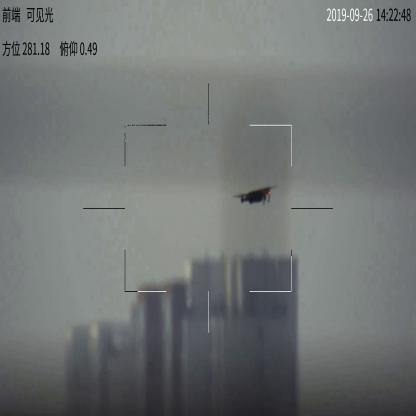uav: (231, 183, 278, 207)
